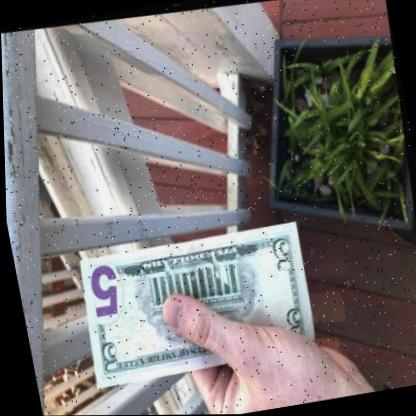dollar_back: (79, 218, 317, 385)
